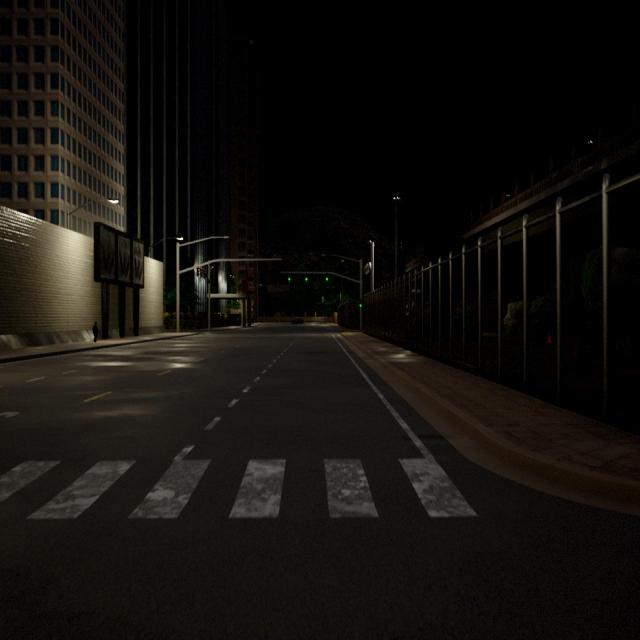Pedestrian: (92, 321, 99, 343)
Vehicle: (290, 318, 304, 325)
traffic_light: (288, 272, 291, 282), (305, 272, 308, 282), (359, 299, 362, 308), (197, 267, 200, 276), (200, 269, 203, 277), (326, 273, 328, 281), (204, 271, 206, 278)
